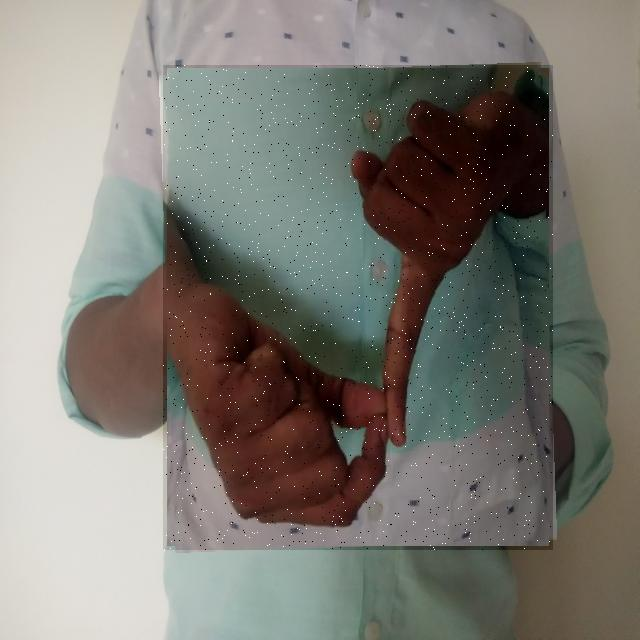P: (163, 65, 553, 550)
